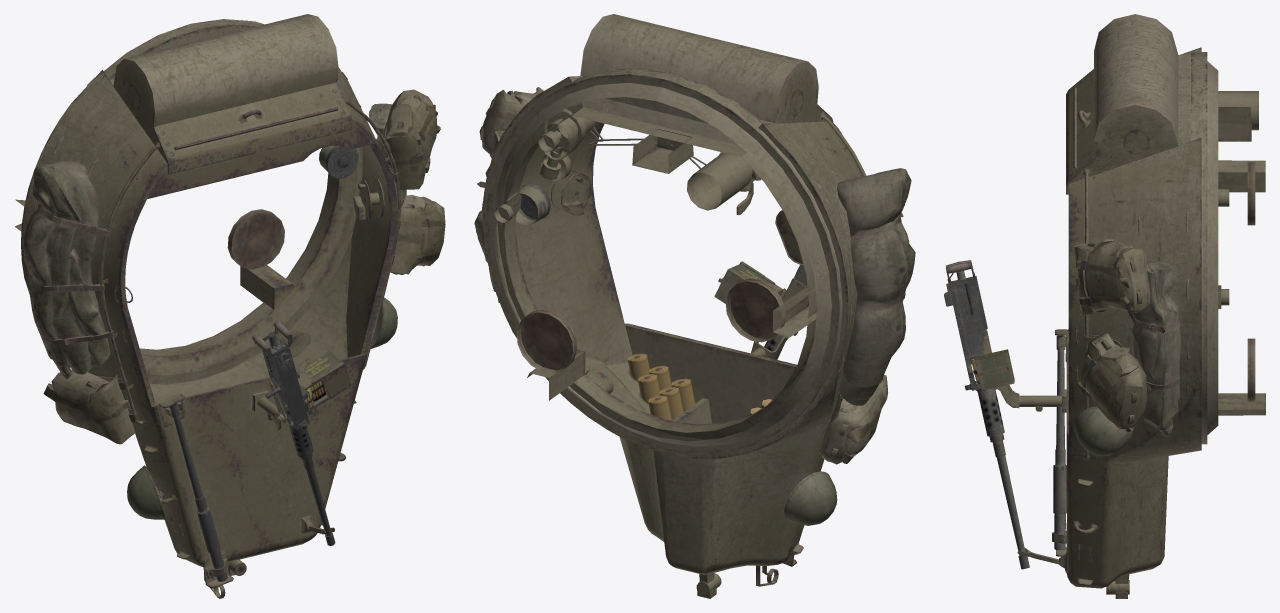
The model's file is Turret_02.glb.
The picture shows the model from 3 angles, left to right: view 1: azimuth 30°, elevation 25°; view 2: azimuth 150°, elevation 25°; view 3: azimuth 270°, elevation 25°; orthographic projection. The views are drawn at different scales.
Parts seen in each view (by area): view 1: set_0_group_0; view 2: set_0_group_0; view 3: set_0_group_0.
Part boxes in pixels (x1,y1,x2,y2): set_0_group_0: [15, 14, 445, 598]; set_0_group_0: [474, 14, 915, 598]; set_0_group_0: [944, 14, 1265, 598].
Size of the model in its own units: 2.55 by 3.11 by 1.69.
Materials: 1 (1 with a texture image).
